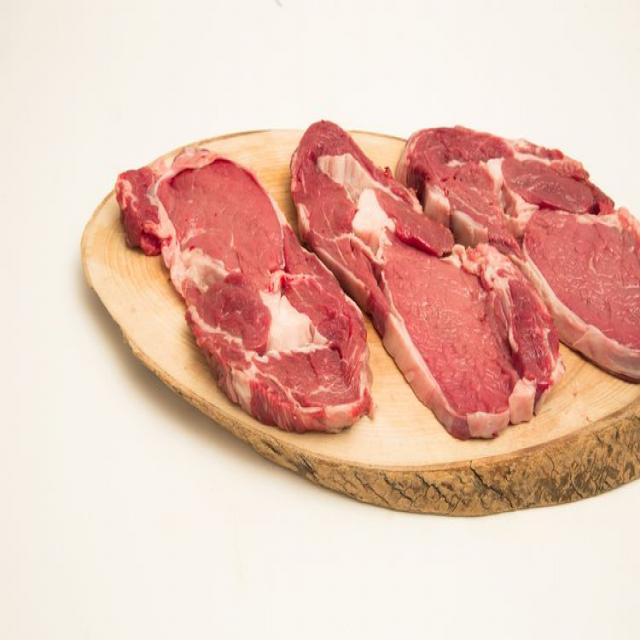Beef: (282, 104, 552, 446), (115, 136, 380, 449), (405, 87, 640, 381)
